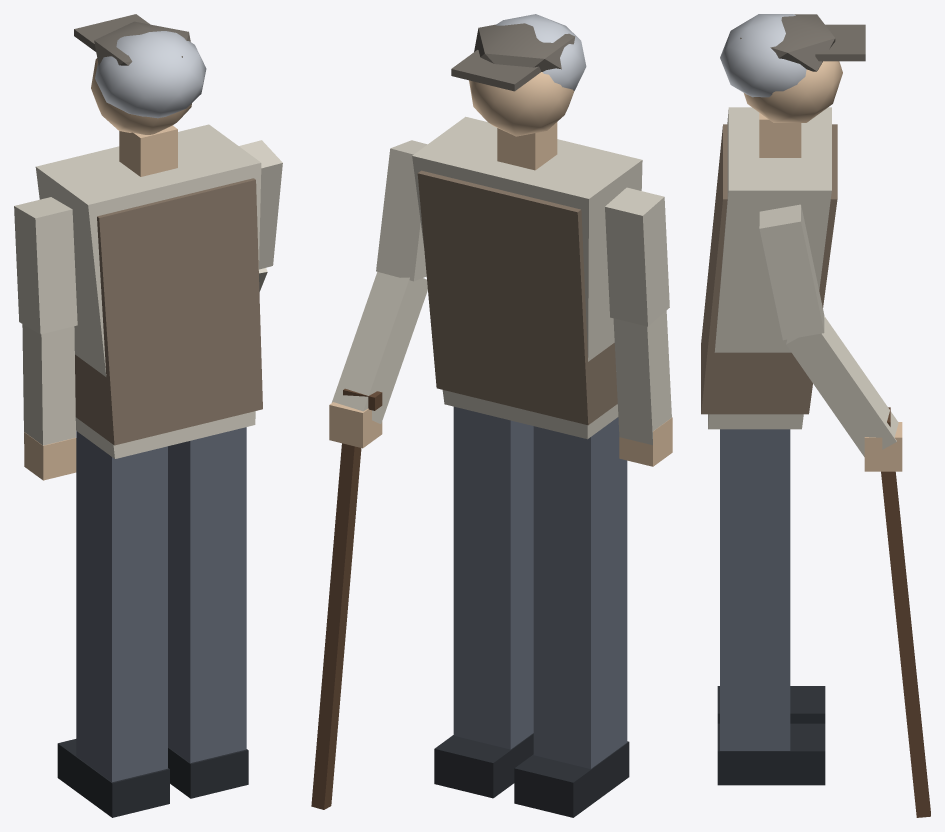
File: local.glb
3 renders of one model, left to right at view 1: azimuth 30°, elevation 25°; view 2: azimuth 150°, elevation 25°; view 3: azimuth 270°, elevation 25°, orthographic. The views are drawn at different scales.
Parts seen in each view (by area): view 1: Body, LegL, LegR; view 2: Body, LegL, LegR; view 3: Body, LegR, LegL.
Boxes of the visible parts, x1,y1,x2,y2 form: Body: (14, 14, 282, 480); LegL: (57, 431, 169, 817); LegR: (168, 427, 248, 798); Body: (311, 14, 672, 809); LegL: (514, 417, 629, 817); LegR: (434, 406, 533, 798); Body: (701, 14, 930, 817); LegR: (717, 429, 825, 785); LegL: (717, 686, 825, 723).
Bounding box in the file's own units: 0.5834 × 1.61 × 0.4555.
